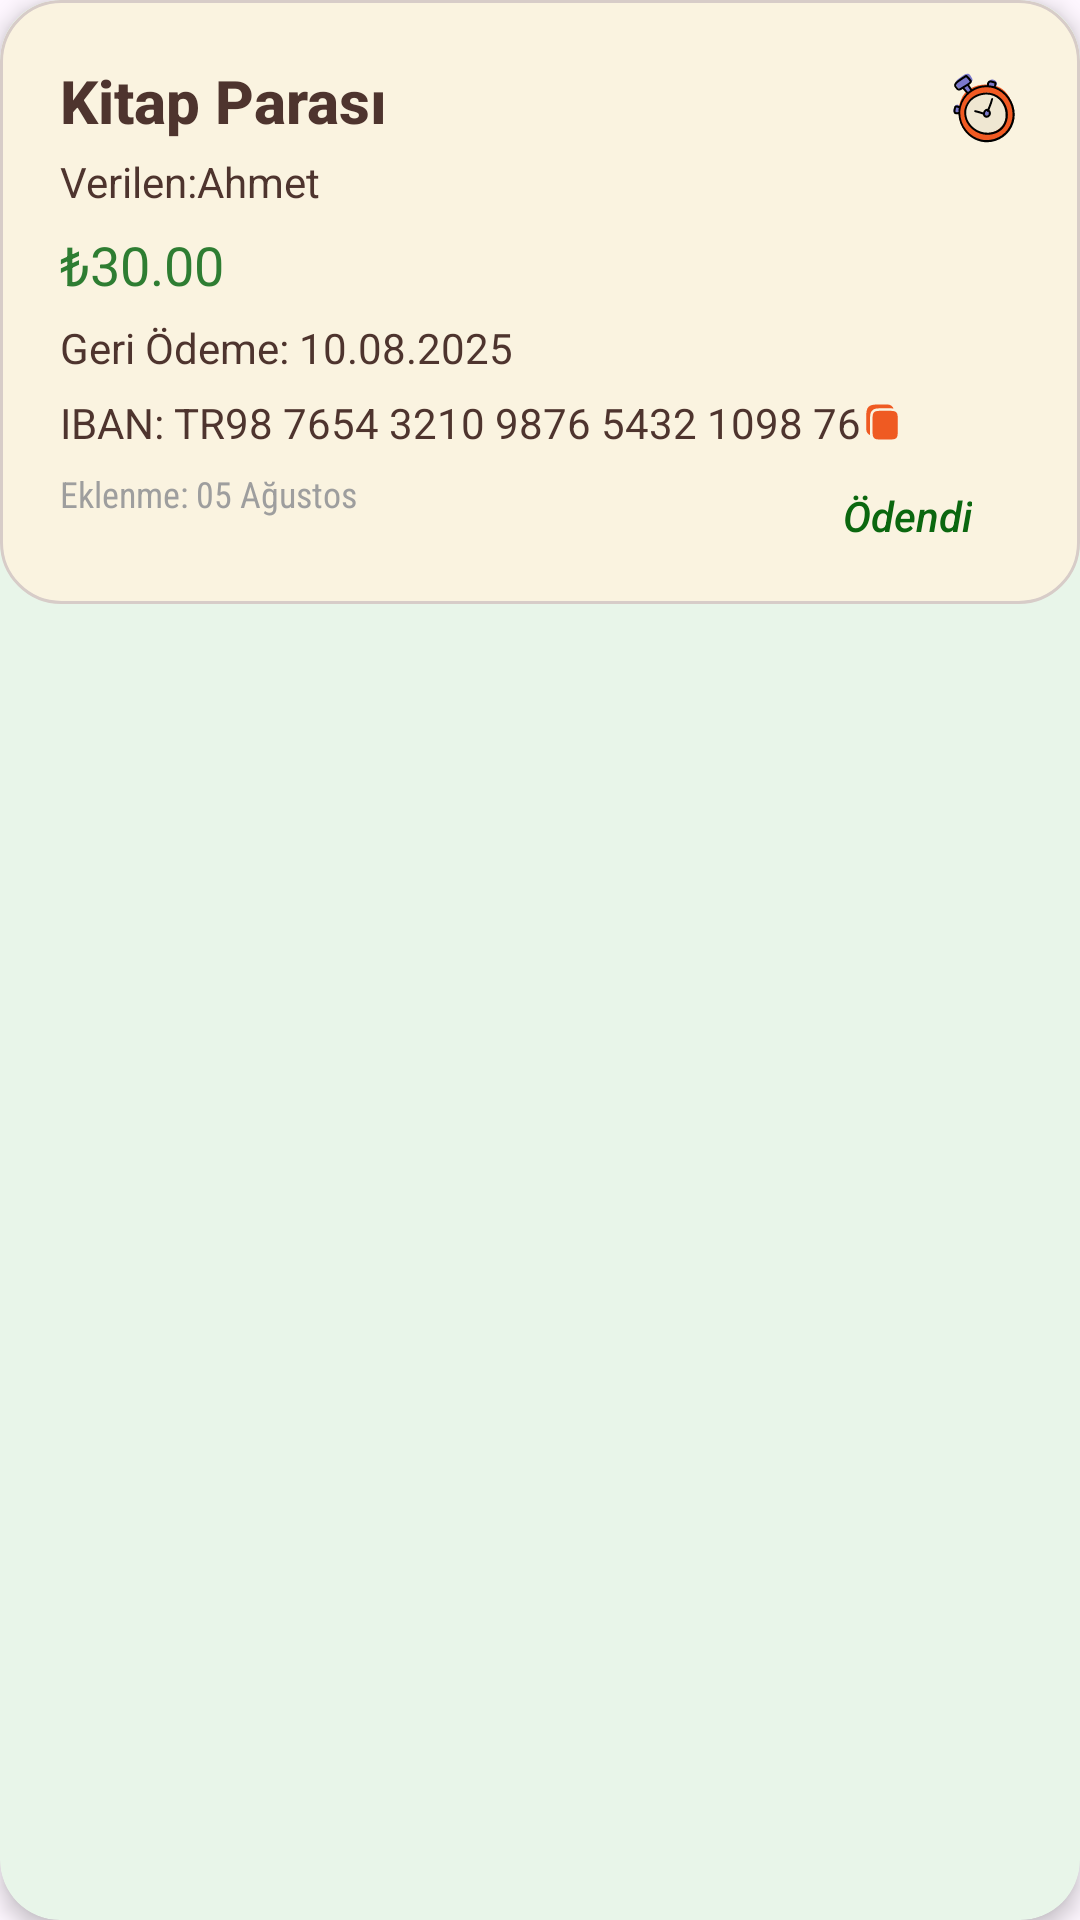

Icon bounding boxes for this 1080×1920 phone screenshot, format (x1=x1, y1=y1, x2=x2, y2=y2):
Kopyala IBAN: (x1=866, y1=404, x2=898, y2=440)
saat: (x1=953, y1=73, x2=1015, y2=143)
